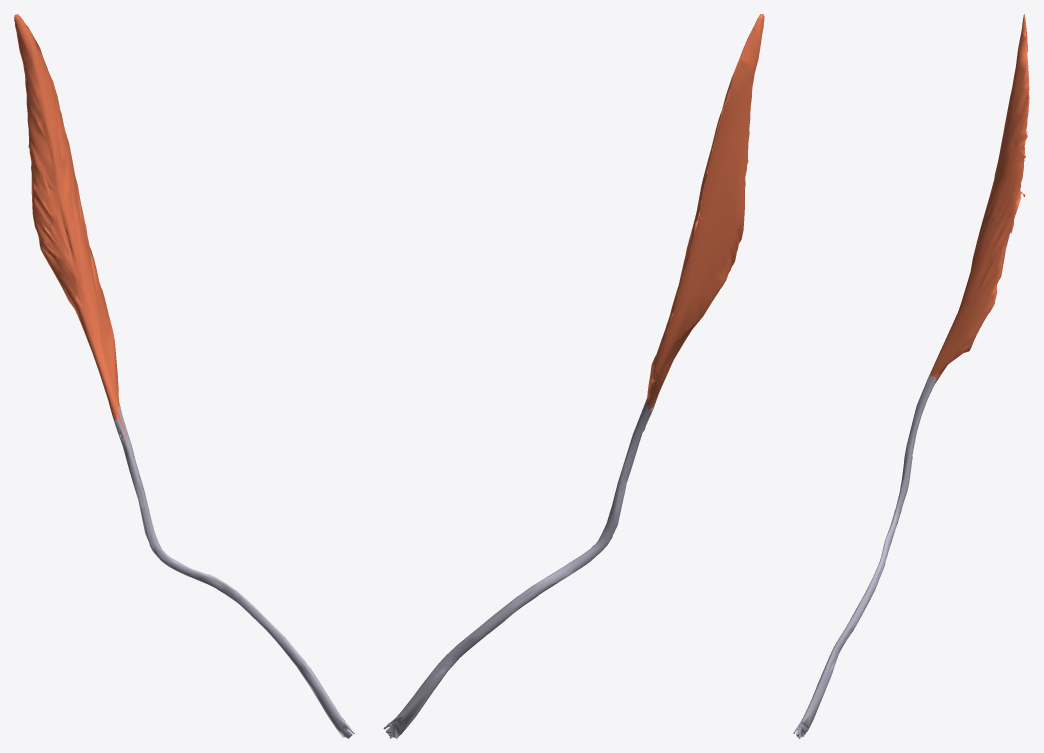
File: Flexor_pollicis_longus.l_Generated_Mesh_From_X3D.494.glb
3 views of the same model, side by side, from view 1: azimuth 30°, elevation 25°; view 2: azimuth 210°, elevation 25°; view 3: azimuth 270°, elevation 25° (orthographic). The views are drawn at different scales.
Parts seen in each view (by area): view 1: Flexor_pollicis_longus.l_Generated_Mesh_From_X3D.494; view 2: Flexor_pollicis_longus.l_Generated_Mesh_From_X3D.494; view 3: Flexor_pollicis_longus.l_Generated_Mesh_From_X3D.494.
Boxes of the visible parts, bbox=[...] form: Flexor_pollicis_longus.l_Generated_Mesh_From_X3D.494: bbox=[14, 14, 354, 738]; Flexor_pollicis_longus.l_Generated_Mesh_From_X3D.494: bbox=[383, 14, 764, 738]; Flexor_pollicis_longus.l_Generated_Mesh_From_X3D.494: bbox=[793, 14, 1029, 738].
Bounding box in the file's own units: 0.078 × 0.2381 × 0.0809.
